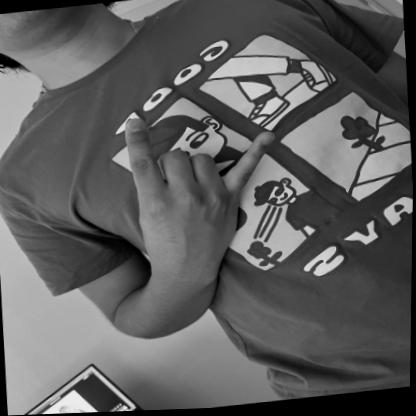U: (115, 95, 286, 276)
